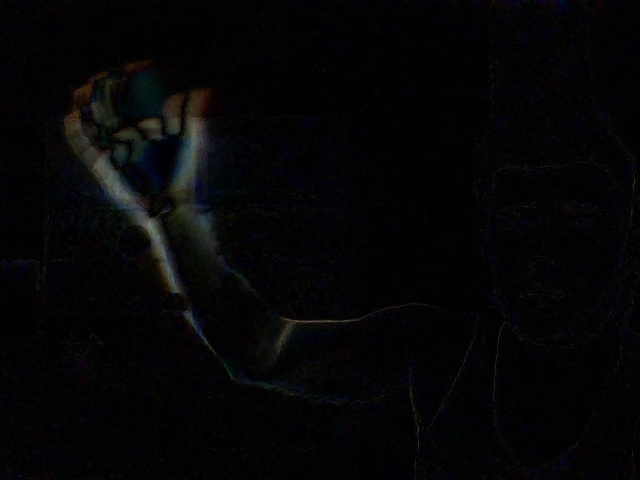arm_fo: (51, 47, 279, 372)
